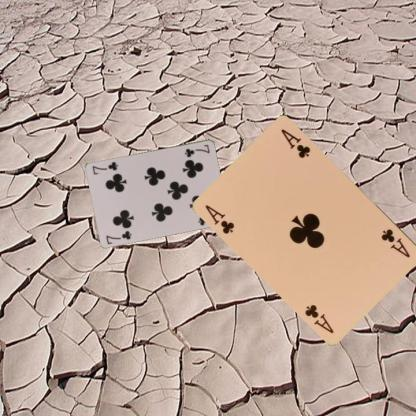7c: (103, 228, 133, 245), (182, 142, 211, 158)
Ac: (378, 226, 412, 259), (203, 201, 236, 235)
